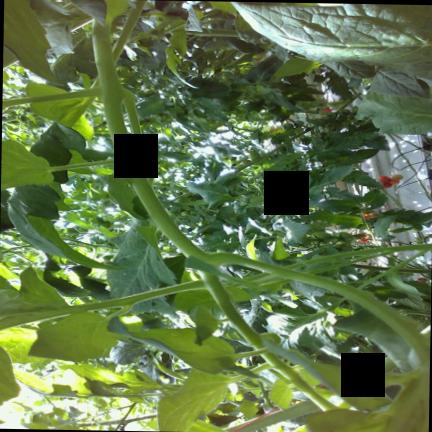MainStem: (92, 18, 217, 267), (197, 269, 264, 348), (259, 350, 339, 410), (223, 399, 321, 432), (233, 129, 307, 171), (310, 243, 431, 258)
tomato: (311, 230, 330, 244), (329, 231, 352, 242), (326, 100, 340, 108), (377, 174, 389, 181), (388, 176, 398, 183), (382, 181, 391, 187), (322, 106, 331, 112), (336, 98, 345, 103), (167, 209, 176, 214), (180, 210, 189, 214)
